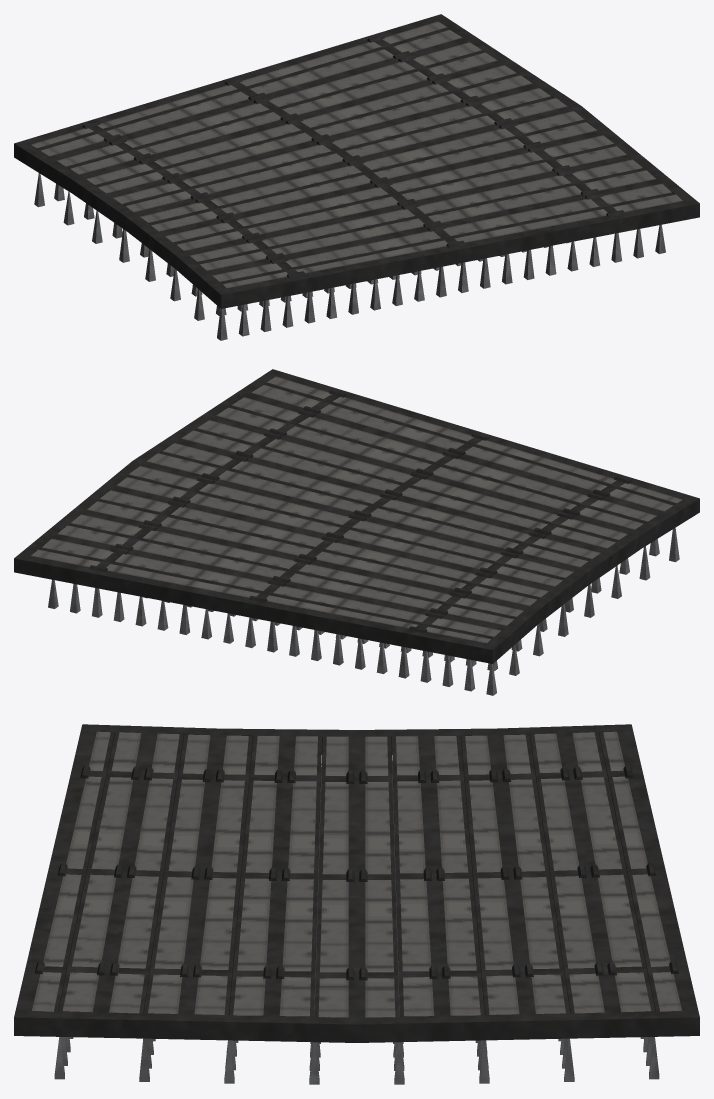
The model's file is marble_trapdoor.glb.
The picture shows the model from 3 angles, top to bottom: view 1: azimuth 30°, elevation 25°; view 2: azimuth 150°, elevation 25°; view 3: azimuth 270°, elevation 25°; orthographic projection. The views are drawn at different scales.
Parts seen in each view (by area): view 1: TrapdoorFrame, TrapdoorSpikes, TrapdoorLeaf08, TrapdoorLeaf14, TrapdoorLeaf10, TrapdoorLeaf12, TrapdoorLeaf06, TrapdoorLeaf02, TrapdoorLeaf04, TrapdoorLeaf07, TrapdoorLeaf13, TrapdoorLeaf09 (+6 smaller); view 2: TrapdoorFrame, TrapdoorSpikes, TrapdoorLeaf07, TrapdoorLeaf01, TrapdoorLeaf05, TrapdoorLeaf03, TrapdoorLeaf09, TrapdoorLeaf13, TrapdoorLeaf11, TrapdoorLeaf08, TrapdoorLeaf02, TrapdoorLeaf06 (+6 smaller); view 3: TrapdoorFrame, TrapdoorLeaf02, TrapdoorLeaf13, TrapdoorLeaf04, TrapdoorLeaf11, TrapdoorLeaf06, TrapdoorLeaf09, TrapdoorLeaf07, TrapdoorLeaf08, TrapdoorLeaf01, TrapdoorLeaf14, TrapdoorLeaf05 (+6 smaller).
Part boxes in pixels (x1=…): TrapdoorFrame: x1=14, y1=14, x2=699, y2=308; TrapdoorSpikes: x1=34, y1=173, x2=665, y2=340; TrapdoorLeaf08: x1=140, y1=111, x2=586, y2=224; TrapdoorLeaf14: x1=212, y1=183, x2=672, y2=282; TrapdoorLeaf10: x1=165, y1=135, x2=615, y2=243; TrapdoorLeaf12: x1=190, y1=159, x2=644, y2=263; TrapdoorLeaf06: x1=113, y1=88, x2=552, y2=205; TrapdoorLeaf02: x1=57, y1=42, x2=483, y2=167; TrapdoorLeaf04: x1=86, y1=65, x2=518, y2=186; TrapdoorLeaf07: x1=124, y1=97, x2=567, y2=212; TrapdoorLeaf13: x1=199, y1=169, x2=655, y2=270; TrapdoorLeaf09: x1=150, y1=121, x2=597, y2=231; TrapdoorFrame: x1=14, y1=369, x2=699, y2=663; TrapdoorSpikes: x1=48, y1=528, x2=679, y2=695; TrapdoorLeaf07: x1=127, y1=466, x2=573, y2=579; TrapdoorLeaf01: x1=41, y1=538, x2=501, y2=637; TrapdoorLeaf05: x1=98, y1=490, x2=548, y2=598; TrapdoorLeaf03: x1=69, y1=514, x2=523, y2=618; TrapdoorLeaf09: x1=161, y1=443, x2=600, y2=560; TrapdoorLeaf13: x1=230, y1=397, x2=656, y2=522; TrapdoorLeaf11: x1=195, y1=420, x2=627, y2=541; TrapdoorLeaf08: x1=146, y1=452, x2=589, y2=567; TrapdoorLeaf02: x1=58, y1=524, x2=514, y2=625; TrapdoorLeaf06: x1=116, y1=476, x2=563, y2=586; TrapdoorFrame: x1=14, y1=724, x2=699, y2=1042; TrapdoorLeaf02: x1=530, y1=733, x2=604, y2=1013; TrapdoorLeaf13: x1=109, y1=733, x2=183, y2=1013; TrapdoorLeaf04: x1=461, y1=735, x2=519, y2=1014; TrapdoorLeaf11: x1=194, y1=735, x2=252, y2=1014; TrapdoorLeaf06: x1=392, y1=736, x2=434, y2=1016; TrapdoorLeaf09: x1=279, y1=736, x2=321, y2=1016; TrapdoorLeaf07: x1=365, y1=736, x2=399, y2=1017; TrapdoorLeaf08: x1=314, y1=736, x2=348, y2=1017; TrapdoorLeaf01: x1=572, y1=732, x2=655, y2=1012; TrapdoorLeaf14: x1=58, y1=732, x2=141, y2=1012; TrapdoorLeaf05: x1=434, y1=735, x2=484, y2=1015.
Bounding box in the file's own units: 12.18 × 1.46 × 11.76.
Materials: 34 (34 with a texture image).
